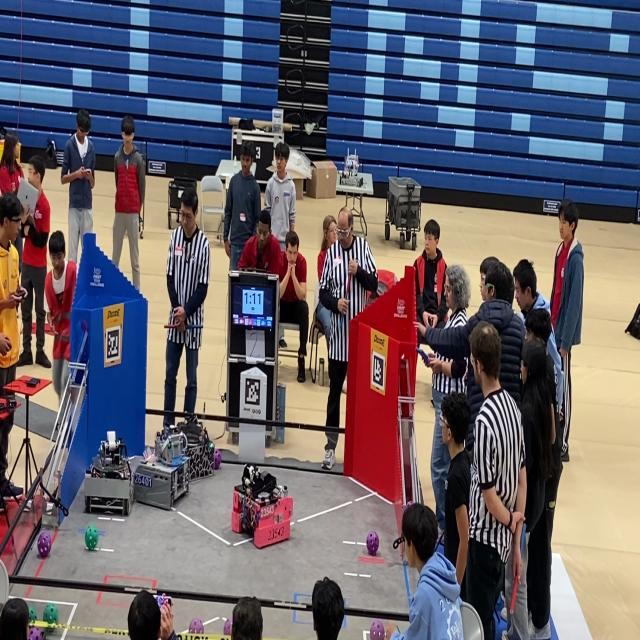artifact_green: (85, 526, 98, 550), (43, 604, 58, 624), (28, 626, 44, 639), (223, 619, 232, 636), (29, 607, 37, 623), (208, 443, 214, 449)
artifact_purple: (37, 531, 51, 558), (366, 531, 379, 555), (370, 621, 385, 639), (189, 618, 204, 634), (29, 627, 43, 639), (214, 449, 221, 469), (224, 620, 231, 635), (404, 501, 413, 510)
